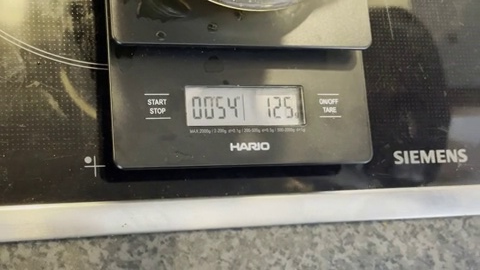display: (186, 85, 303, 125)
